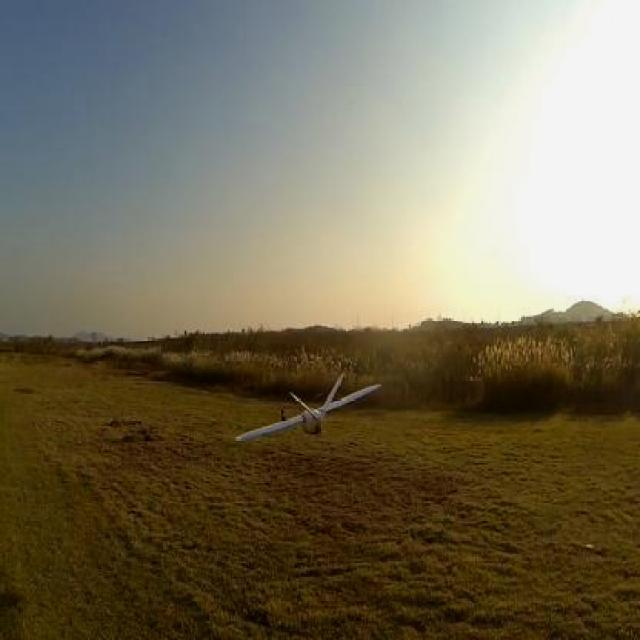iha: (230, 381, 389, 422)
